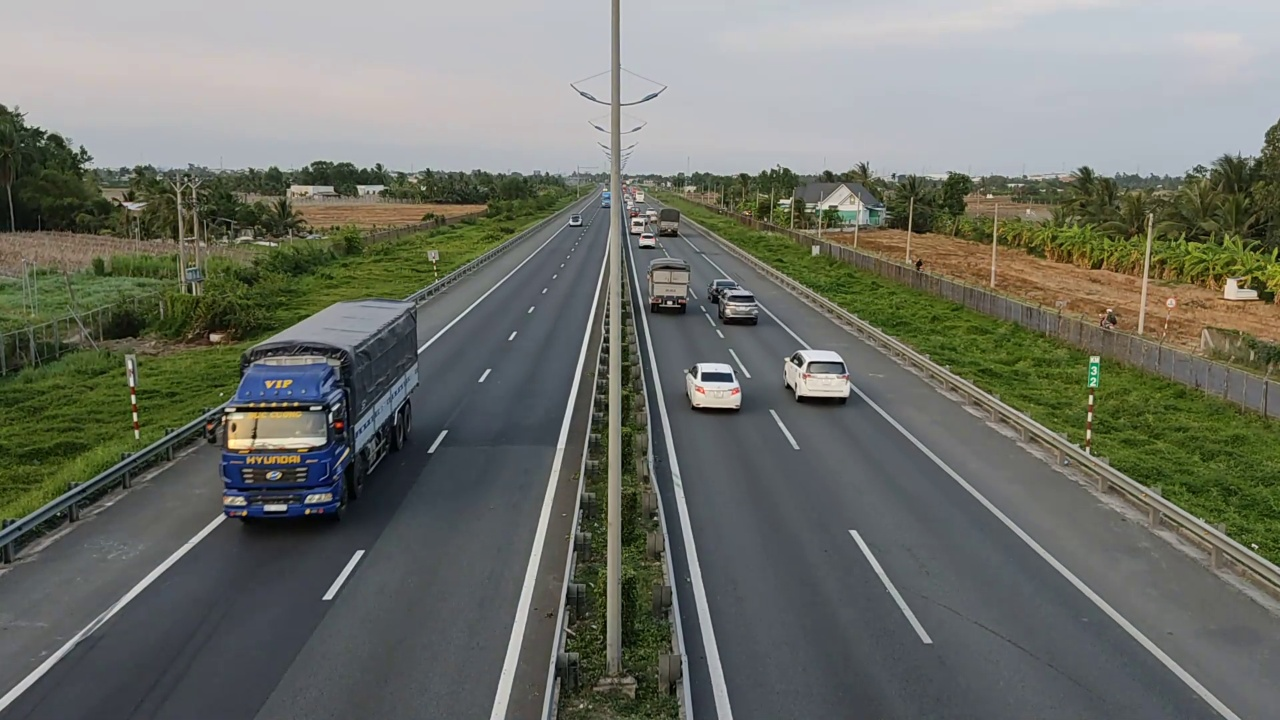car: (783, 349, 851, 402), (683, 363, 741, 411), (719, 288, 759, 324)
truck: (214, 301, 421, 525), (647, 257, 690, 313)
